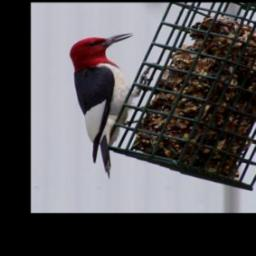Woodpecker: (68, 32, 151, 179)
